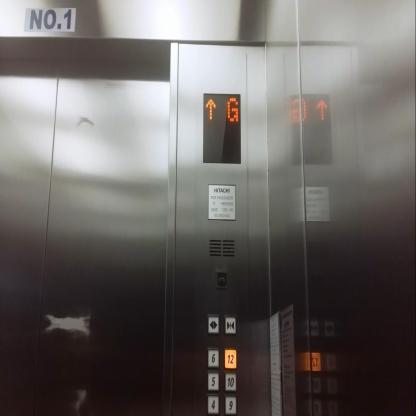10: (223, 369, 237, 393)
12: (223, 347, 237, 370)
4: (206, 392, 220, 416)
5: (206, 371, 220, 392)
6: (206, 345, 219, 369)
9: (223, 394, 238, 416)
call: (216, 270, 228, 291)
close: (224, 313, 236, 337), (309, 318, 319, 338)
led: (202, 91, 241, 164)
open: (206, 313, 219, 336)
unknown: (310, 352, 321, 371)
